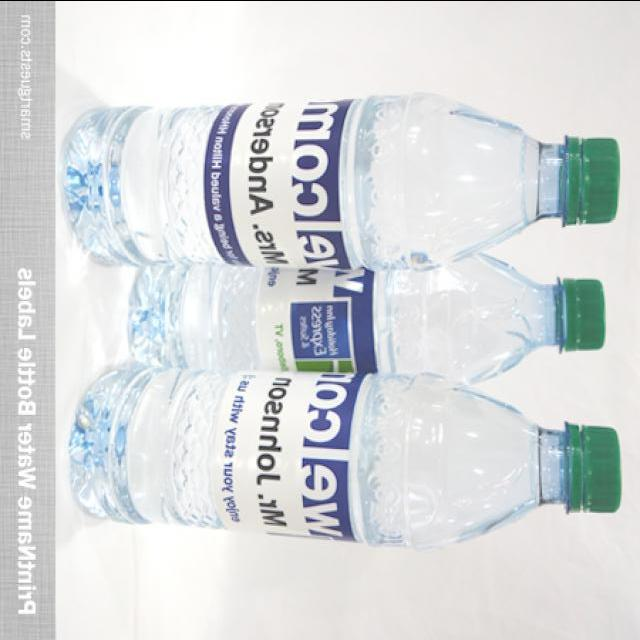cap: (561, 132, 622, 228), (565, 420, 619, 520)
label: (212, 101, 350, 271), (222, 373, 356, 537)
not-crumbled: (66, 357, 630, 552), (61, 88, 630, 276)
